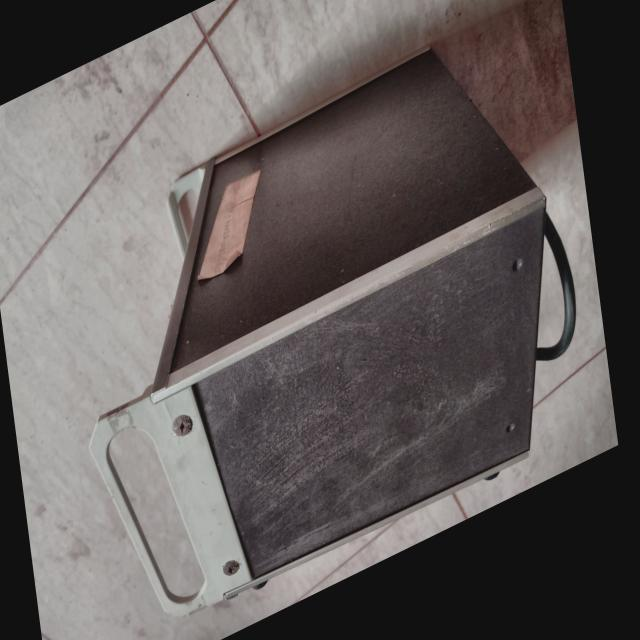Low Distortion Signal Generator: (116, 0, 585, 640)
